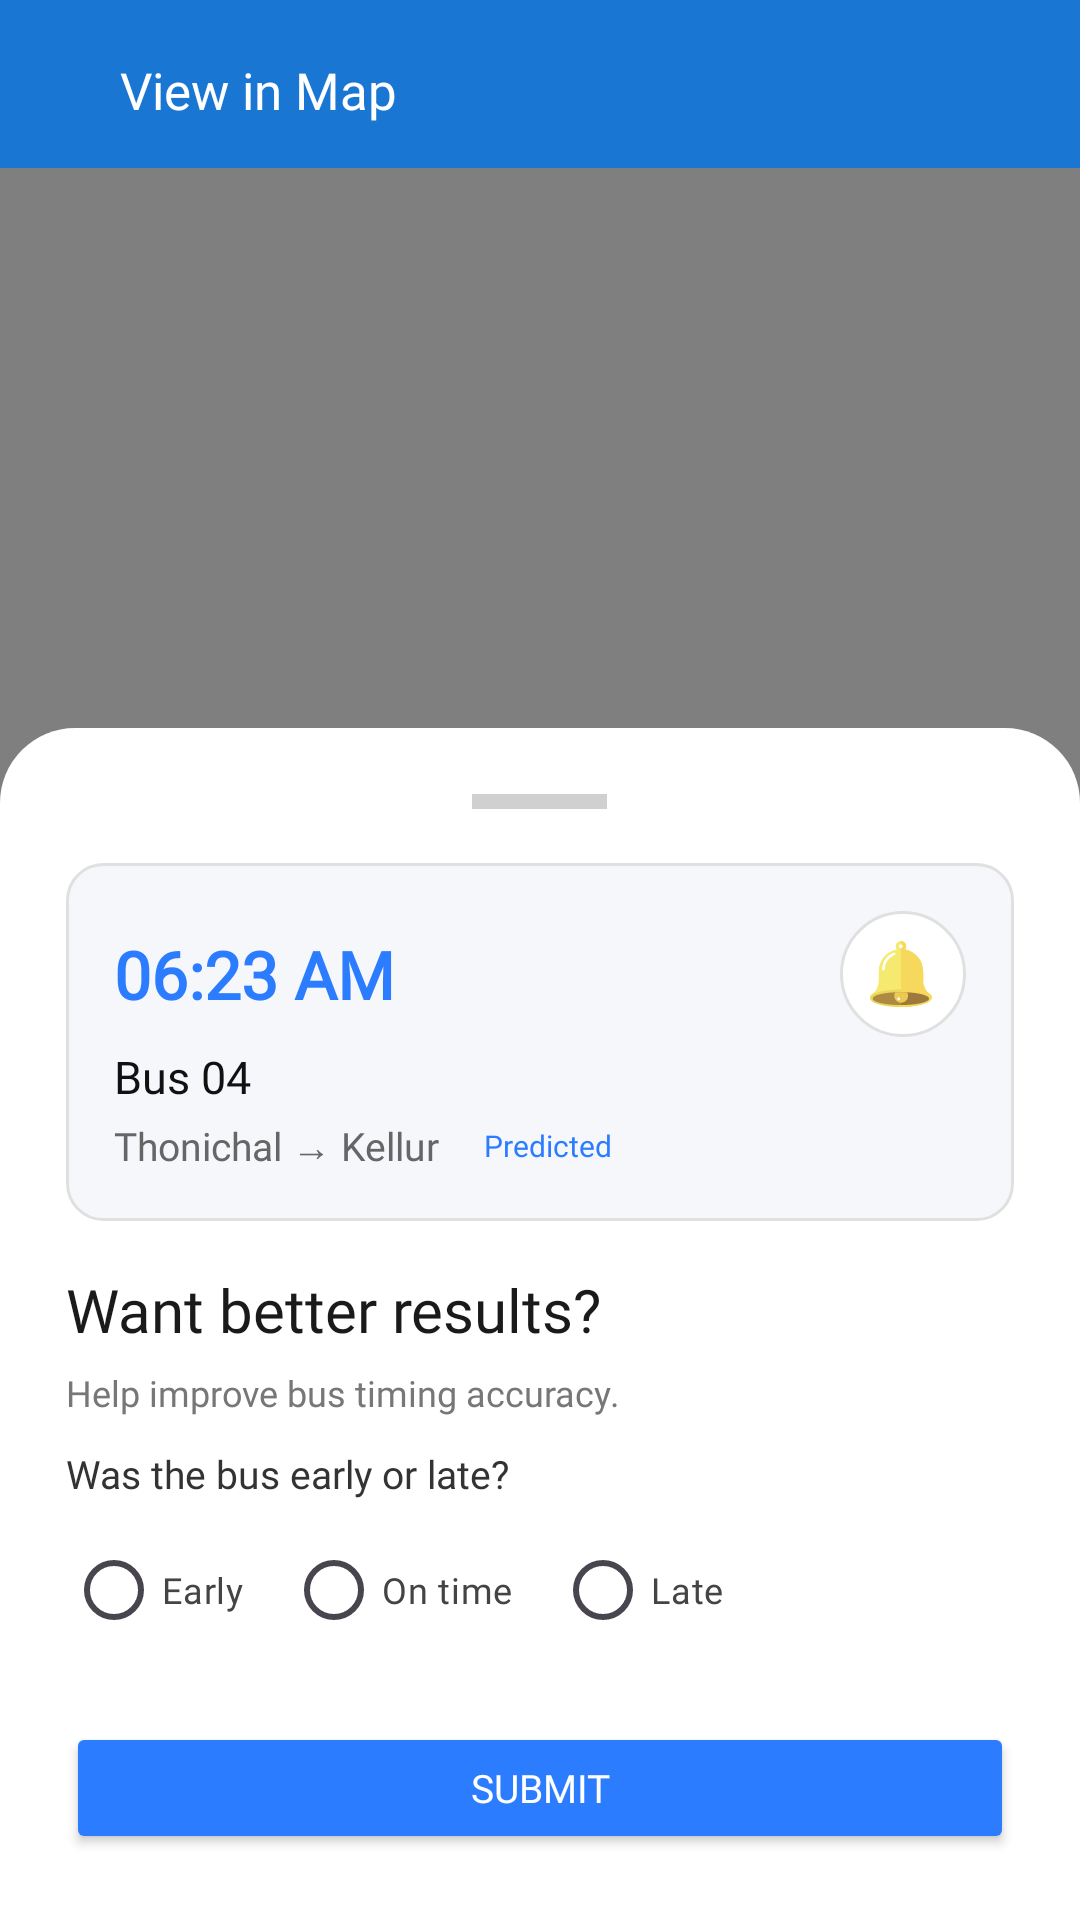

Named icons in this screenshot (1080*1920) and their centers, (x=x, y=y):
Notify when bus arrives: (x=903, y=974)
